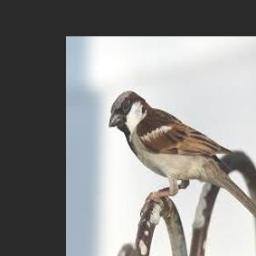Sparrow: (109, 91, 256, 229)
